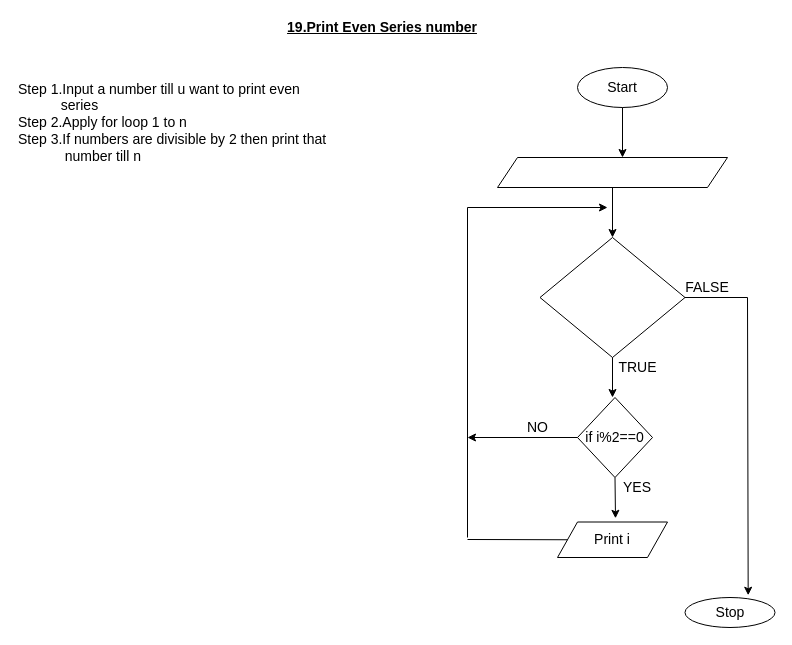
This 792x645 diagram has some shape labels left out. The shapes that lost their labels are listed below. From the top down, each one's centre as x and y in pixels, then its label:
At point (612, 172): "Input a natural number n".
At point (612, 297): "for(i=1;i<=n;i++)".
